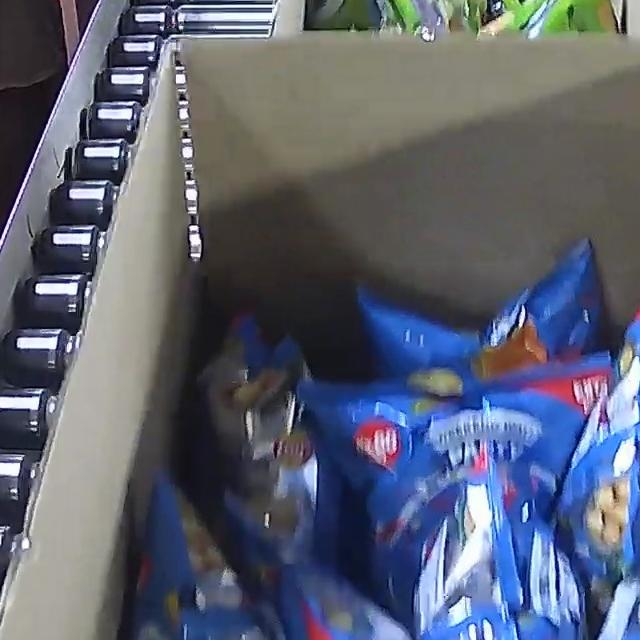paprika: (101, 239, 640, 640)
yogurt: (306, 0, 620, 39)
